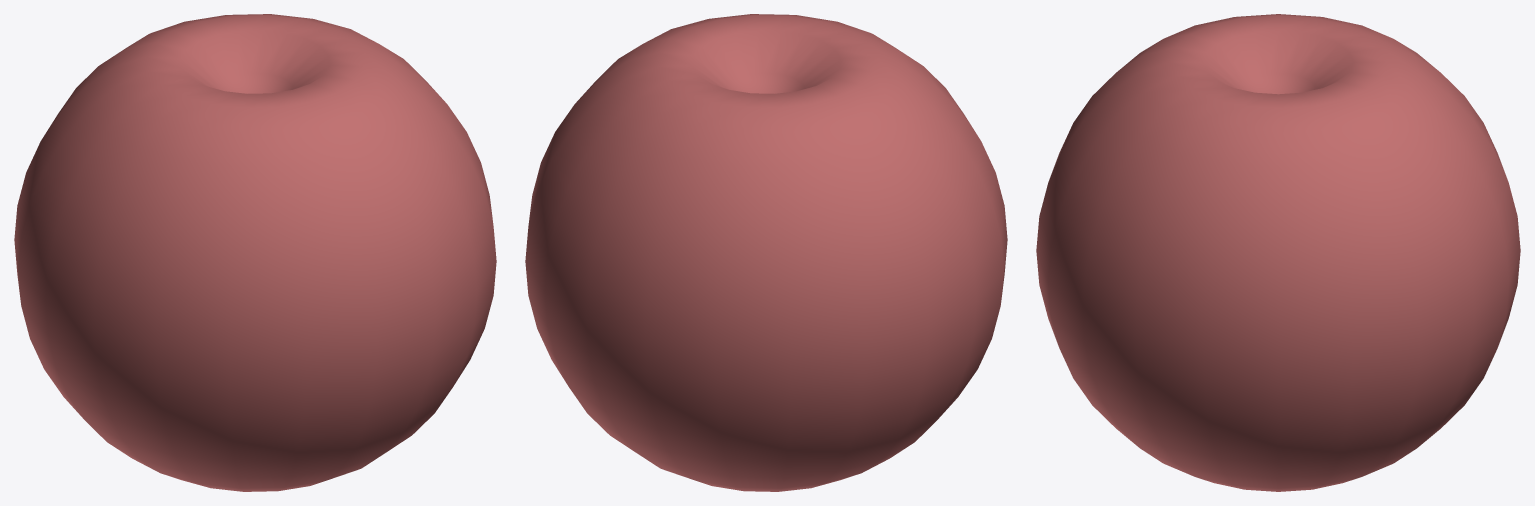
File: apple.fbx
3 views of the same model, side by side, from view 1: azimuth 30°, elevation 25°; view 2: azimuth 150°, elevation 25°; view 3: azimuth 270°, elevation 25° (orthographic).
Parts seen in each view (by area): view 1: pSphere1; view 2: pSphere1; view 3: pSphere1.
Boxes of the visible parts, x1=… form: pSphere1: x1=14, y1=14, x2=496, y2=491; pSphere1: x1=525, y1=14, x2=1007, y2=491; pSphere1: x1=1036, y1=14, x2=1520, y2=491.
Bounding box in the file's own units: 19.34 × 16.97 × 19.34.
